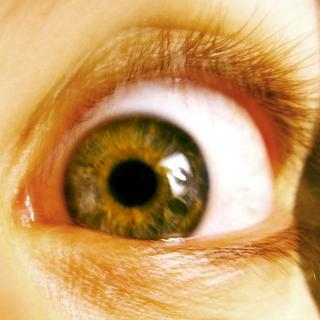pupil: (108, 160, 156, 208)
